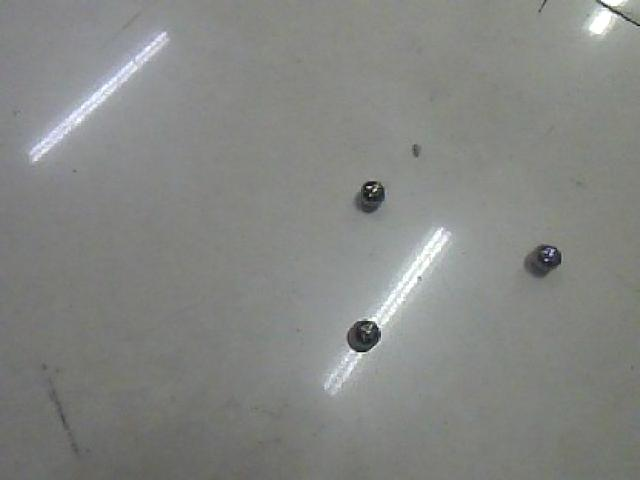steel-ball: (519, 228, 586, 295), (332, 297, 396, 361), (349, 163, 403, 215)
